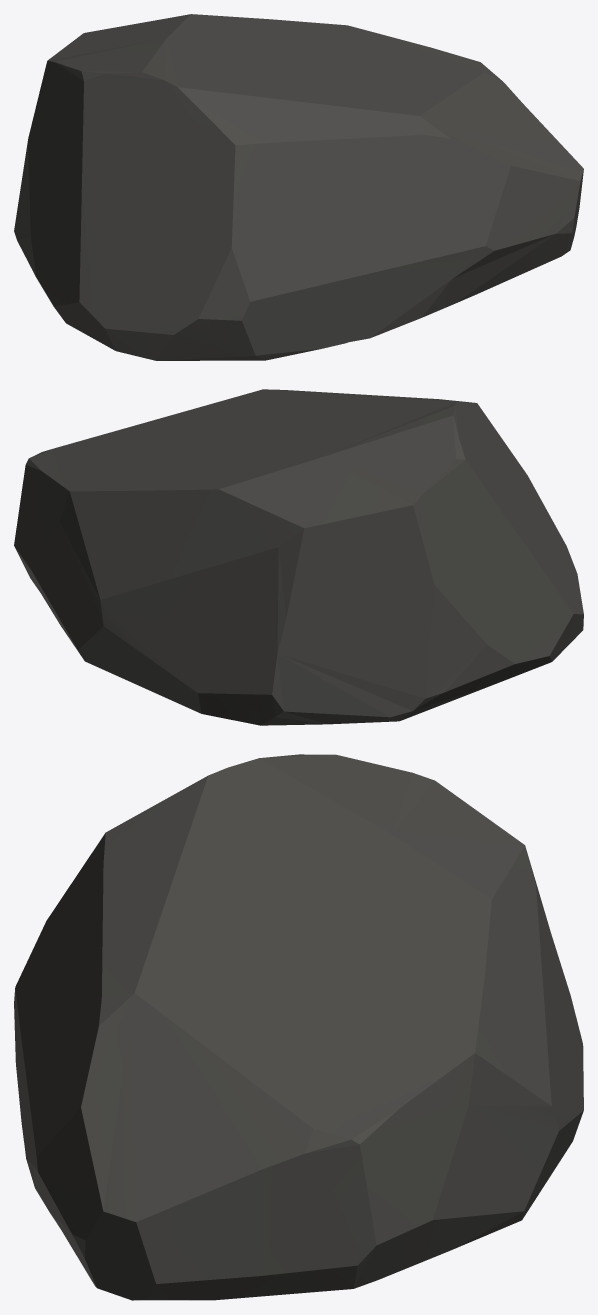
Rendered from Stone2_Mesh.obj.
3 views of the same model, one above another, from view 1: azimuth 30°, elevation 25°; view 2: azimuth 150°, elevation 25°; view 3: azimuth 270°, elevation 25° (orthographic). The views are drawn at different scales.
Parts seen in each view (by area): view 1: Stone2_Mesh_0; view 2: Stone2_Mesh_0; view 3: Stone2_Mesh_0.
Boxes of the visible parts, x1,y1,x2,y2 form: Stone2_Mesh_0: [14, 14, 583, 360]; Stone2_Mesh_0: [14, 389, 583, 725]; Stone2_Mesh_0: [14, 754, 583, 1300].
Bounding box in the file's own units: 0.12 × 0.0553 × 0.0919.
Materials: 1 (1 with a texture image).
